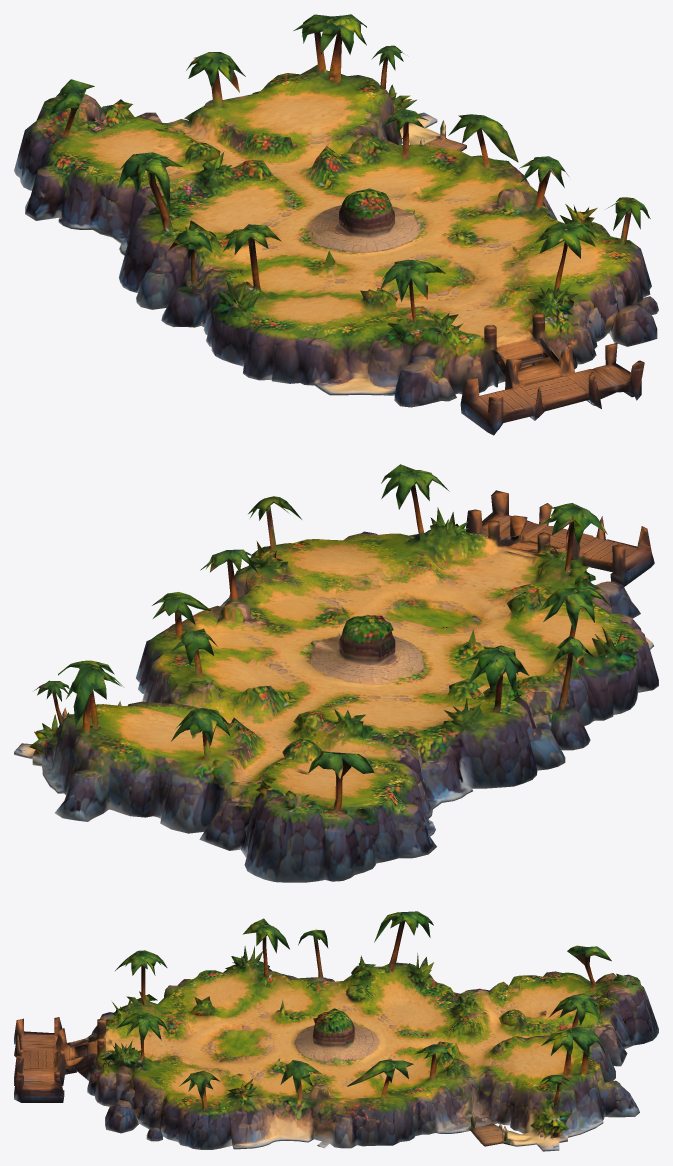
Rendered from island+terrain+3d+model (1).glb.
3 renders of one model, top to bottom at view 1: azimuth 30°, elevation 25°; view 2: azimuth 150°, elevation 25°; view 3: azimuth 270°, elevation 25°, orthographic. The views are drawn at different scales.
Parts seen in each view (by area): view 1: tripo_node_75e652be-077e-41dd-990f-d3a867dbfa22; view 2: tripo_node_75e652be-077e-41dd-990f-d3a867dbfa22; view 3: tripo_node_75e652be-077e-41dd-990f-d3a867dbfa22.
Boxes of the visible parts, bbox=[...] form: tripo_node_75e652be-077e-41dd-990f-d3a867dbfa22: bbox=[14, 14, 658, 435]; tripo_node_75e652be-077e-41dd-990f-d3a867dbfa22: bbox=[14, 464, 658, 882]; tripo_node_75e652be-077e-41dd-990f-d3a867dbfa22: bbox=[14, 911, 658, 1151].
Size of the model in its own units: 0.5785 by 0.1616 by 0.9952.
1 material, 1 textured.
